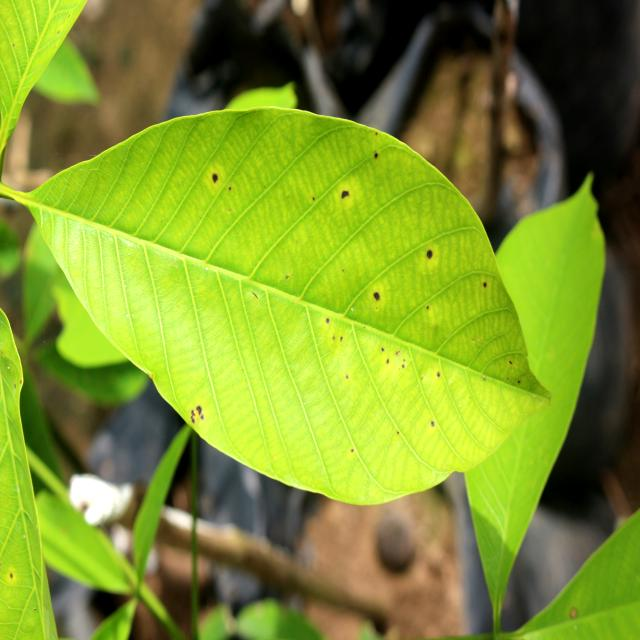Colletotrichum: (427, 250, 433, 260), (212, 174, 218, 182), (374, 292, 379, 301)
